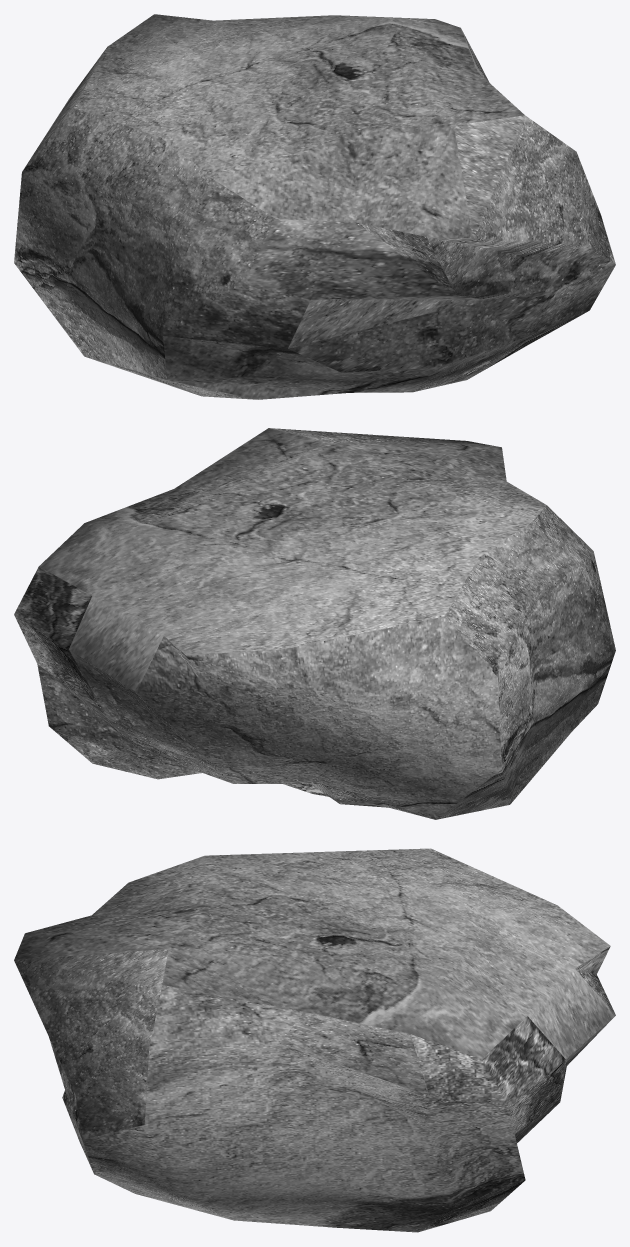
The model's file is rock.fbx.
The picture shows the model from 3 angles, top to bottom: view 1: azimuth 30°, elevation 25°; view 2: azimuth 150°, elevation 25°; view 3: azimuth 270°, elevation 25°; orthographic projection.
Parts seen in each view (by area): view 1: Cube; view 2: Cube; view 3: Cube.
Boxes of the visible parts, box(x1,y1,x2,y2) form: Cube: box(14, 14, 615, 399); Cube: box(14, 428, 615, 819); Cube: box(14, 848, 615, 1232).
Size of the model in its own units: 318 by 168 by 363.
